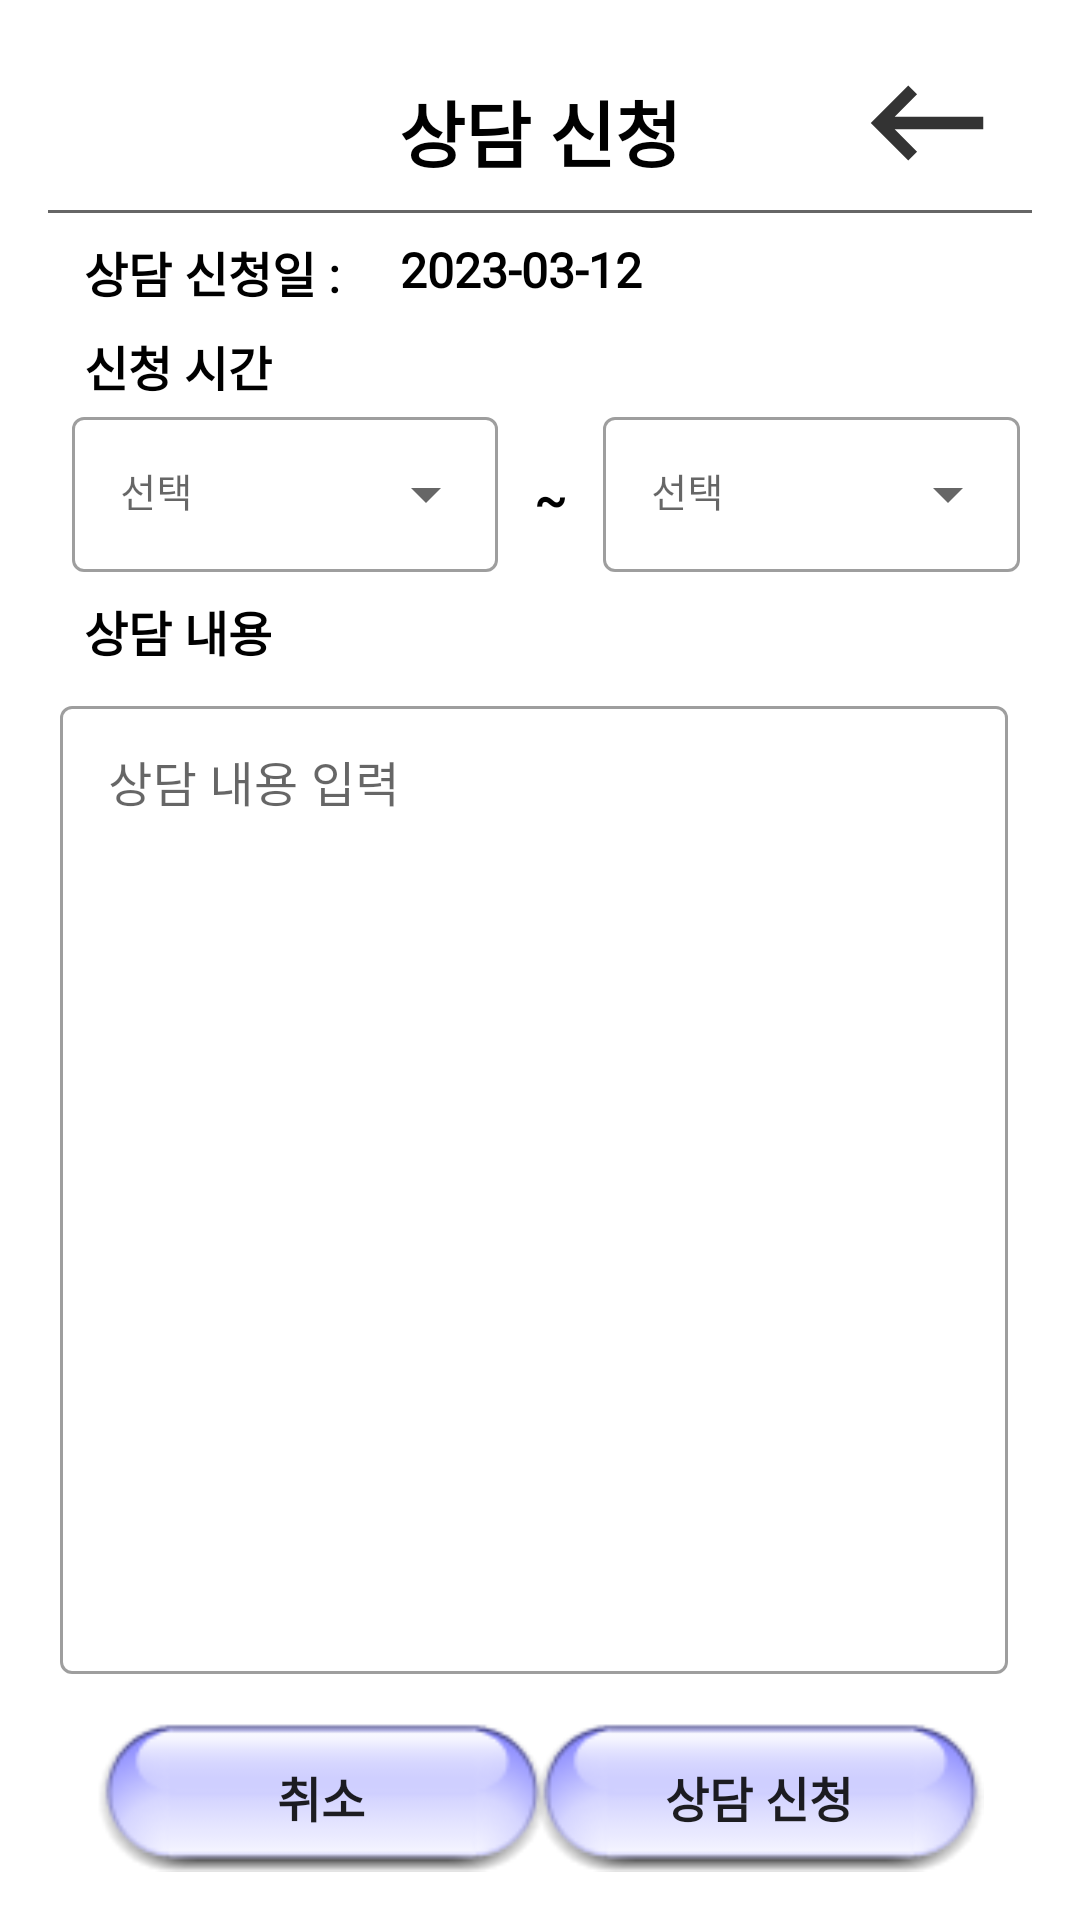

Screen size 1080px x 1920px. Icon name, then its box in pixels as (x1, y1, x2, y2):
backspace: (871, 85, 984, 161)
